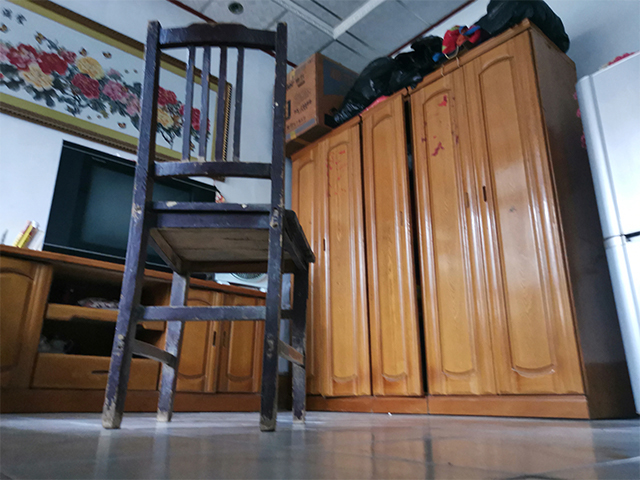cabinet: (279, 15, 638, 423), (1, 242, 266, 414)
stool: (97, 18, 319, 433)
